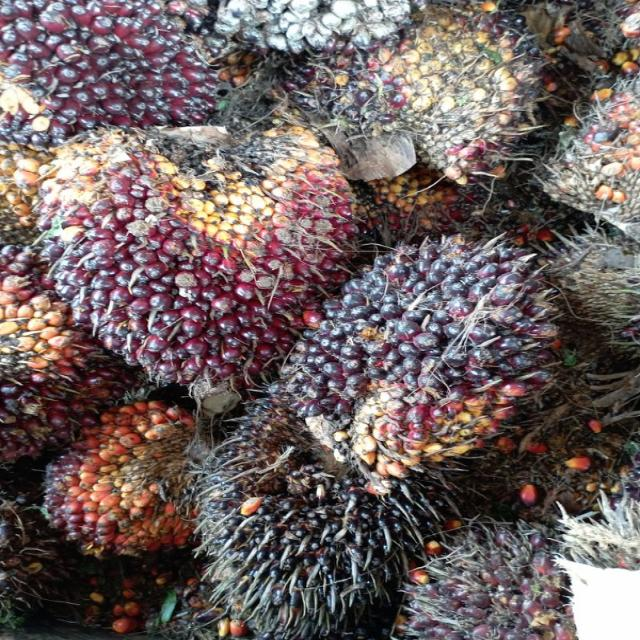fraksi 00: (288, 240, 556, 477), (195, 431, 416, 638)
fraksi 1: (32, 128, 358, 400), (0, 0, 244, 157)
fraksi 3: (35, 404, 213, 562)
